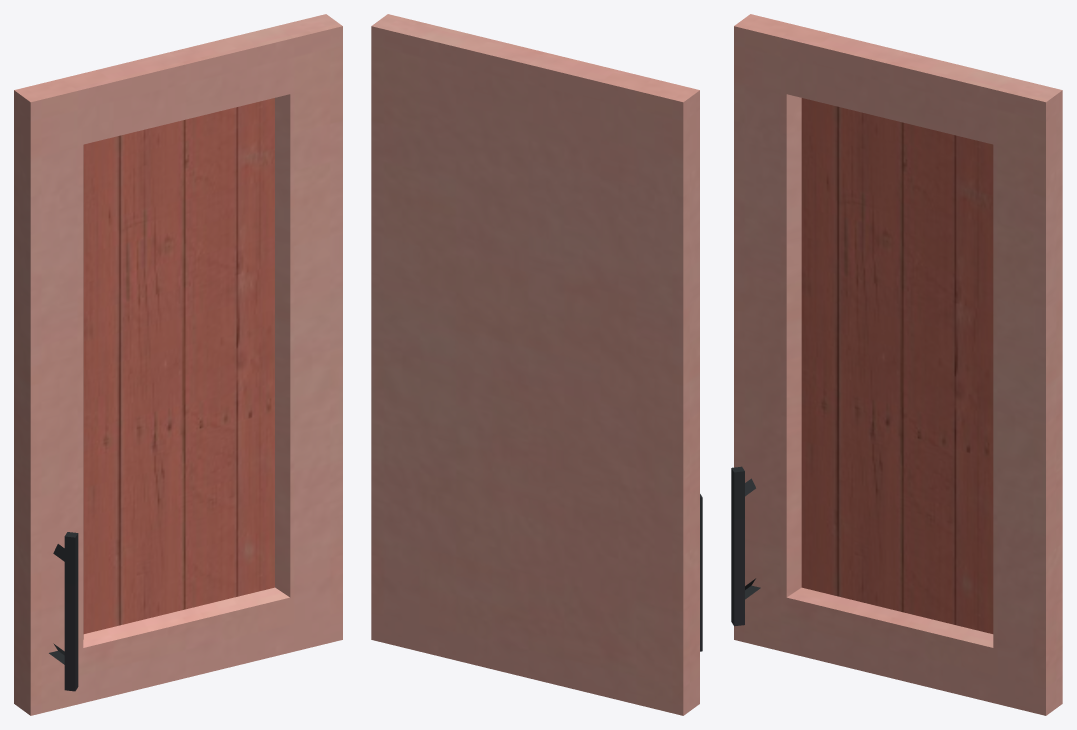
File: Washbasin_door.glb
The picture shows the model from 3 angles, left to right: view 1: azimuth 30°, elevation 25°; view 2: azimuth 150°, elevation 25°; view 3: azimuth 330°, elevation 25°; orthographic projection.
Parts seen in each view (by area): view 1: Washbasin_door; view 2: Washbasin_door; view 3: Washbasin_door.
Boxes of the visible parts, left/top/right/bottom form: Washbasin_door: left=14, top=14, right=342, bottom=715; Washbasin_door: left=371, top=14, right=702, bottom=715; Washbasin_door: left=731, top=14, right=1062, bottom=715.
Bounding box in the file's own units: 0.4053 × 0.7613 × 0.0873.
Materials: 3 (3 with a texture image).
